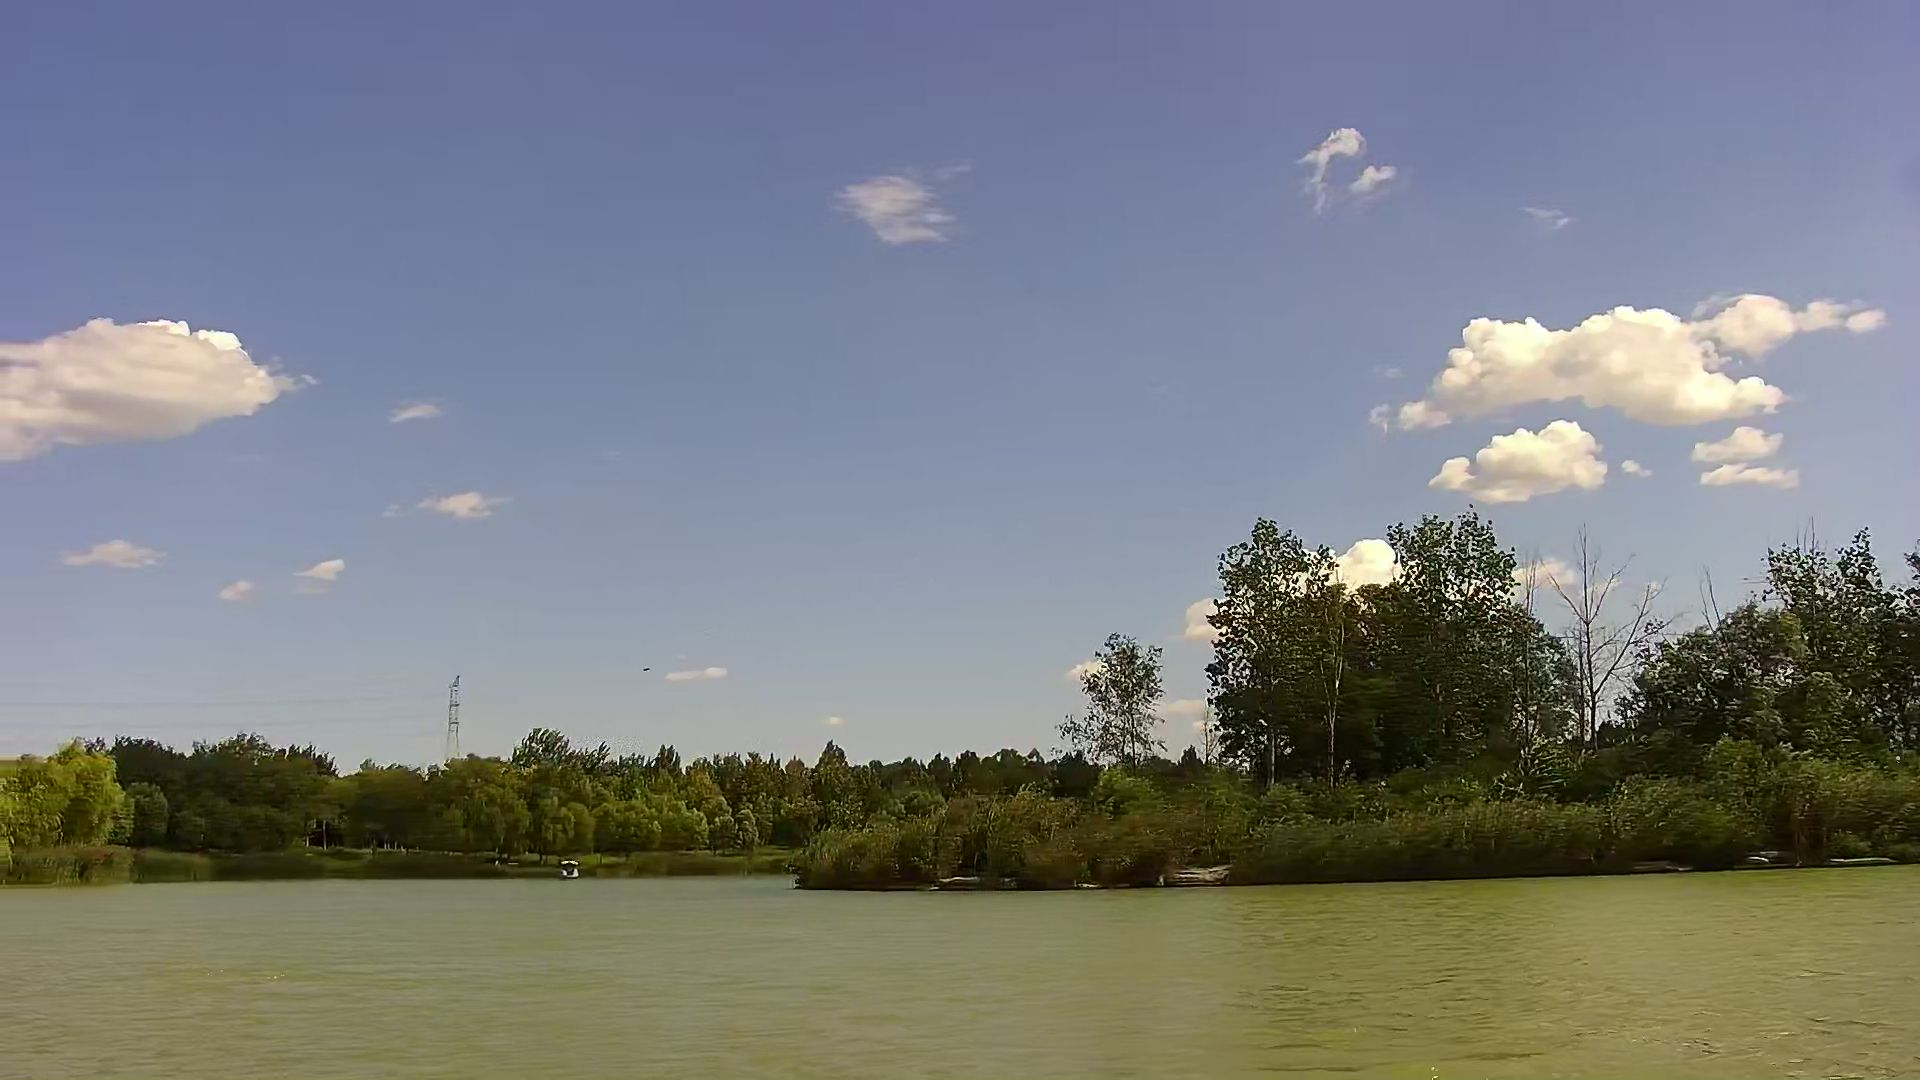rock: (1150, 857, 1229, 884), (928, 873, 993, 889)
